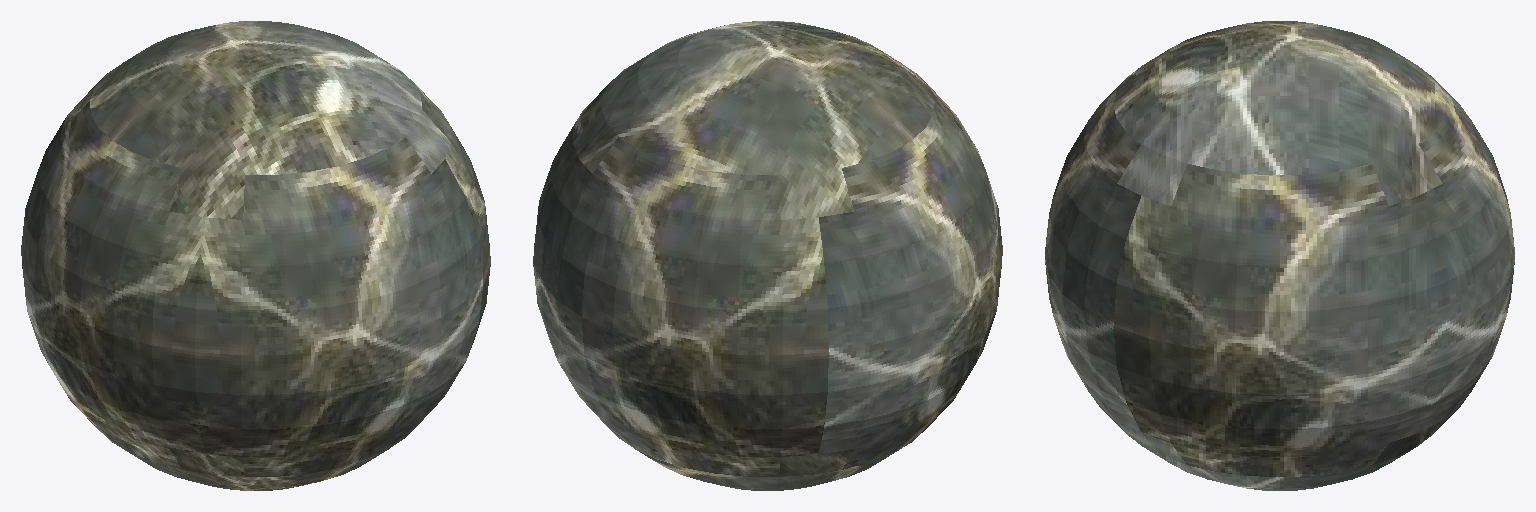
3 renders of one model, left to right at view 1: azimuth 30°, elevation 25°; view 2: azimuth 150°, elevation 25°; view 3: azimuth 270°, elevation 25°, orthographic.
Parts seen in each view (by area): view 1: stone1_particle; view 2: stone1_particle; view 3: stone1_particle.
Part boxes in pixels (x1,y1,x2,y2): stone1_particle: (21,21,490,490); stone1_particle: (533,21,1002,490); stone1_particle: (1045,21,1514,490).
Bounding box in the file's own units: 2 × 2 × 2.
1 materials, 1 textured.